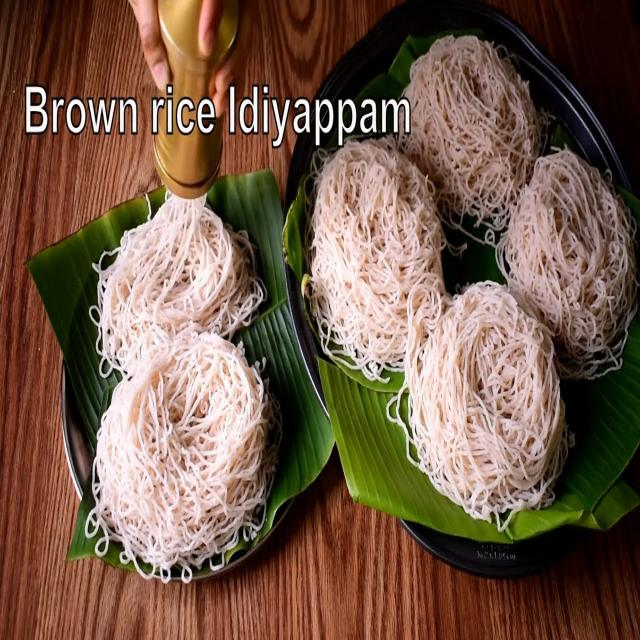IDIYAPPAM: (306, 44, 630, 511), (79, 163, 277, 584)
